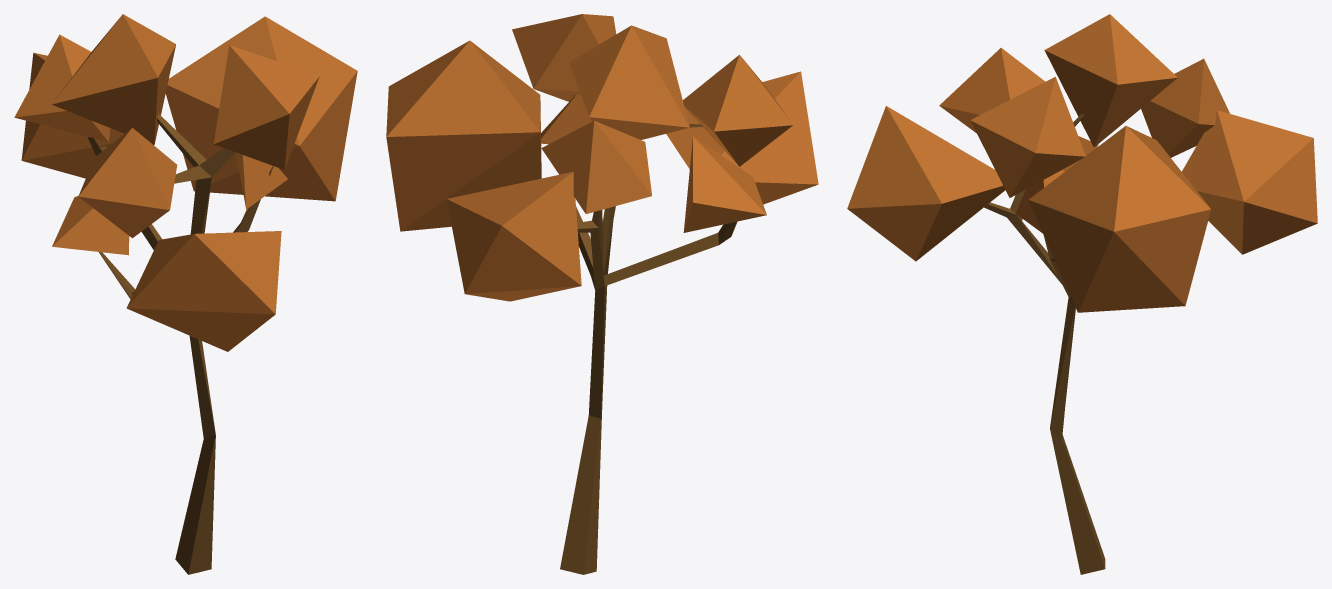
File: tree4.fbx
The picture shows the model from 3 angles, left to right: view 1: azimuth 30°, elevation 25°; view 2: azimuth 150°, elevation 25°; view 3: azimuth 270°, elevation 25°; orthographic projection. The views are drawn at different scales.
Visible parts, largest first — view 1: tree; view 2: tree; view 3: tree.
Boxes of the visible parts, left/top/right/bottom form: tree: left=14, top=14, right=357, bottom=574; tree: left=386, top=14, right=818, bottom=574; tree: left=847, top=14, right=1317, bottom=574.
Bounding box in the file's own units: 405 × 640 × 518.
